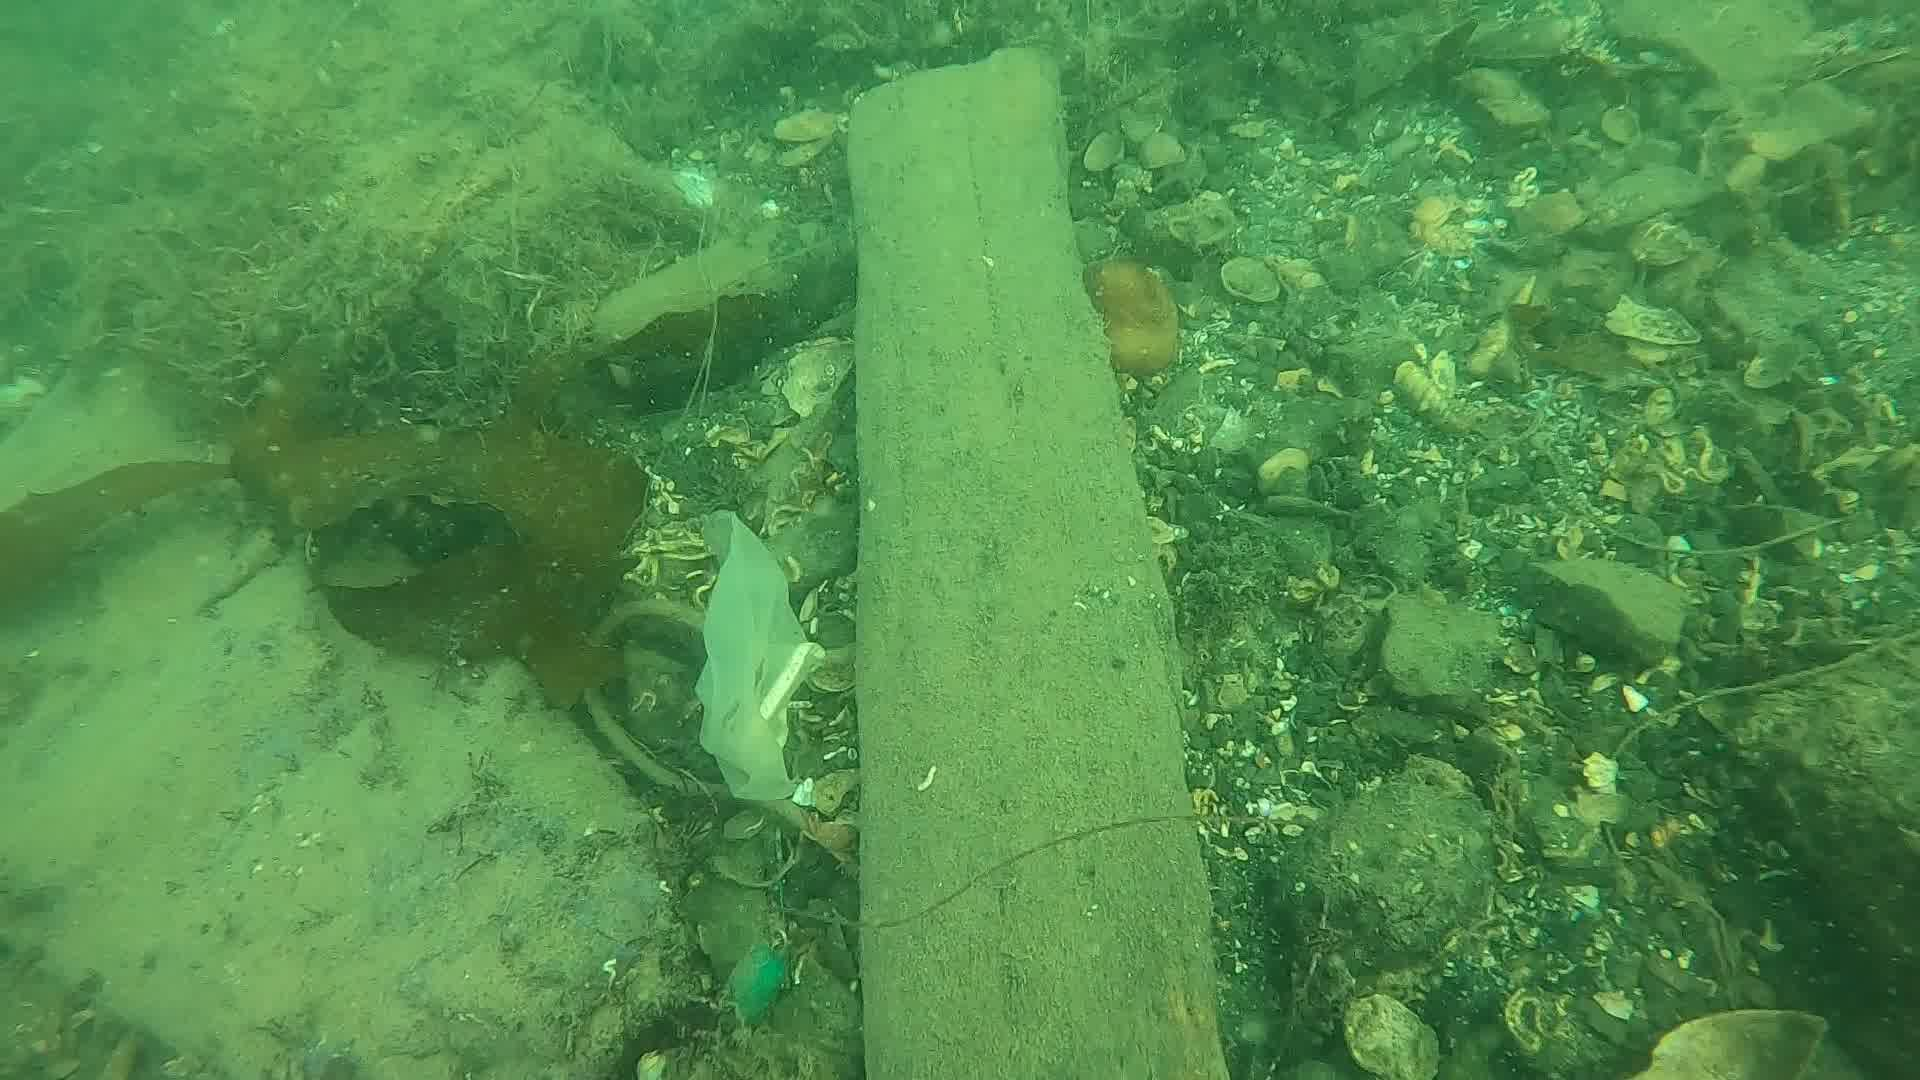wood: (843, 41, 1236, 1080)
